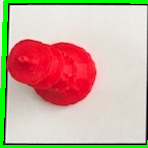Red King: (7, 30, 100, 112)
